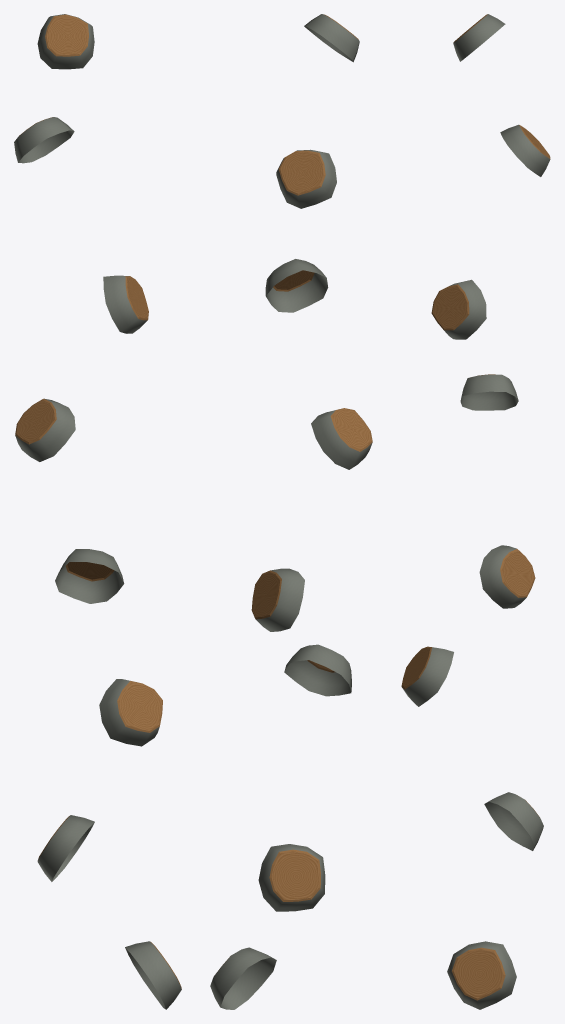
File: Beech_Mature_02_HighPruned_Recent_LOD1.fbx
3 views of the same model, side by side, from view 1: azimuth 30°, elevation 25°; view 2: azimuth 150°, elevation 25°; view 3: azimuth 270°, elevation 25° (orthographic). The views are drawn at different scales.
Visible parts, largest first — view 1: Beech_Mature_02_HighPruned_Recent_LOD1_Scars; view 2: Beech_Mature_02_HighPruned_Recent_LOD1_Scars; view 3: Beech_Mature_02_HighPruned_Recent_LOD1_Scars.
Part boxes in pixels (x1,y1,x2,y2): Beech_Mature_02_HighPruned_Recent_LOD1_Scars: (14, 14, 181, 1009); Beech_Mature_02_HighPruned_Recent_LOD1_Scars: (210, 14, 372, 1009); Beech_Mature_02_HighPruned_Recent_LOD1_Scars: (401, 14, 550, 1009).
Size of what is drawn, in the model's own units: 75.02 by 480 by 68.34.
2 materials, 2 textured.
